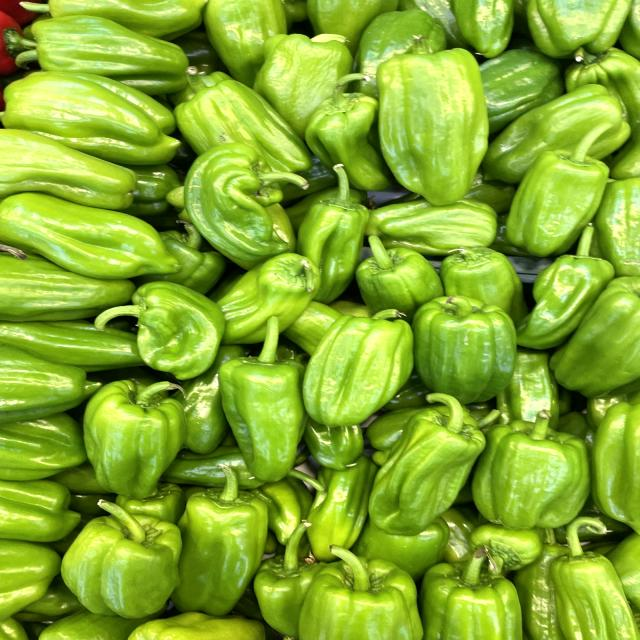bell pepper: (367, 37, 505, 210), (198, 318, 334, 490), (52, 495, 207, 623), (458, 409, 602, 535), (496, 123, 621, 262), (75, 369, 192, 496), (411, 290, 528, 405)
